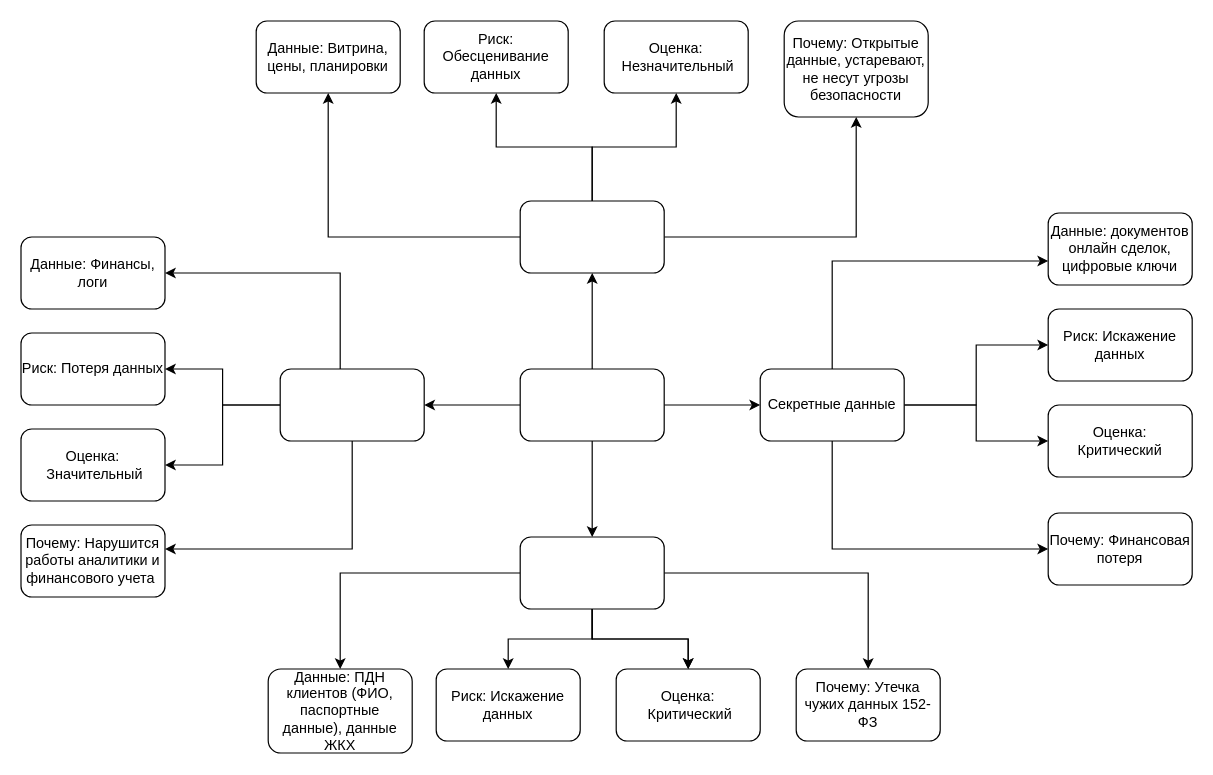
The diagram is 1213 pixels wide and 775 high, and some of its shapes have lost their labels. Each missing label, with the centre of its shape:
Безопасность данных: the point at 591,404
Внутренние данные: the point at 351,404
Конфиденциальные данные: the point at 591,572
Публичные данные: the point at 591,236
